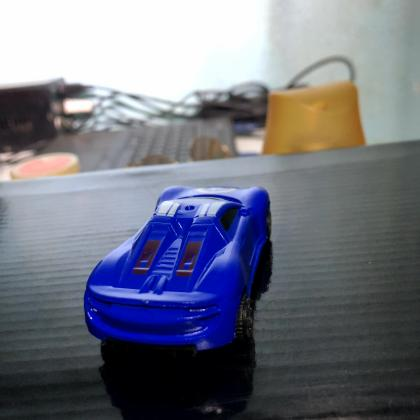Car: (83, 187, 272, 359)
